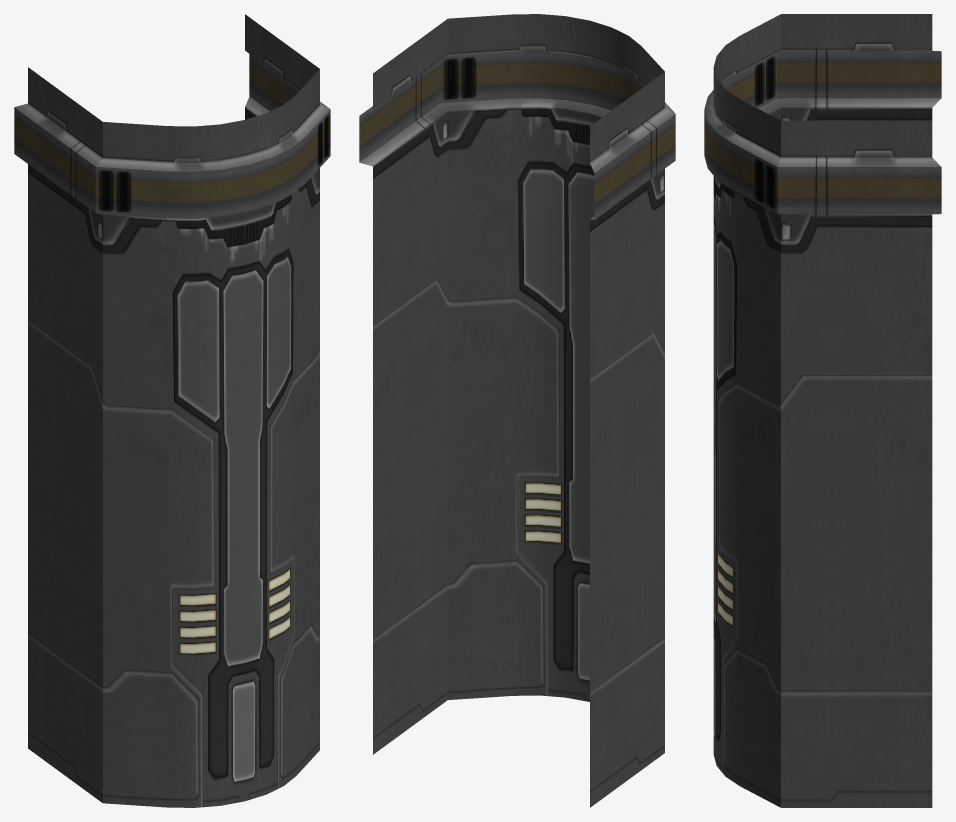
File: doodad_skyscraper_corner.fbx
3 views of the same model, side by side, from view 1: azimuth 30°, elevation 25°; view 2: azimuth 150°, elevation 25°; view 3: azimuth 270°, elevation 25° (orthographic).
Visible parts, largest first — view 1: pCube2; view 2: pCube2; view 3: pCube2.
Boxes of the visible parts, bbox=[...] form: pCube2: bbox=[14, 14, 330, 807]; pCube2: bbox=[359, 14, 675, 807]; pCube2: bbox=[704, 14, 941, 807].
Size of the model in its own units: 2.17 by 6 by 1.88.
Materials: 1 (1 with a texture image).
